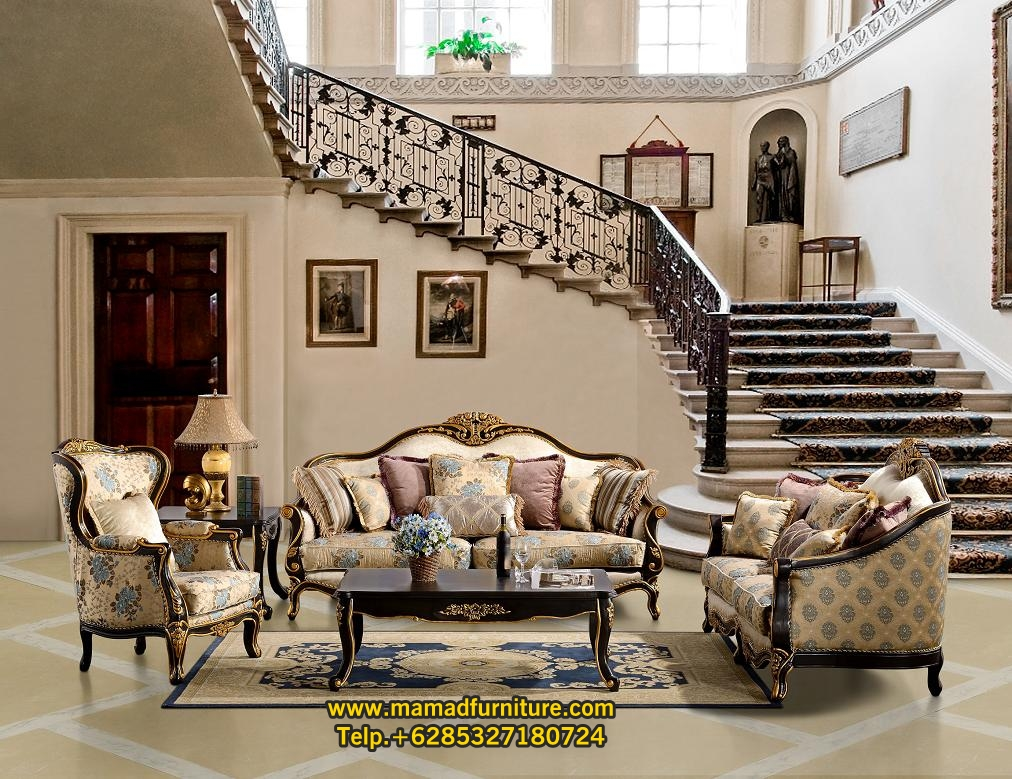Carving Chair: (298, 418, 680, 607), (718, 462, 975, 718), (52, 440, 268, 681)
Carving Table: (331, 565, 621, 701)
